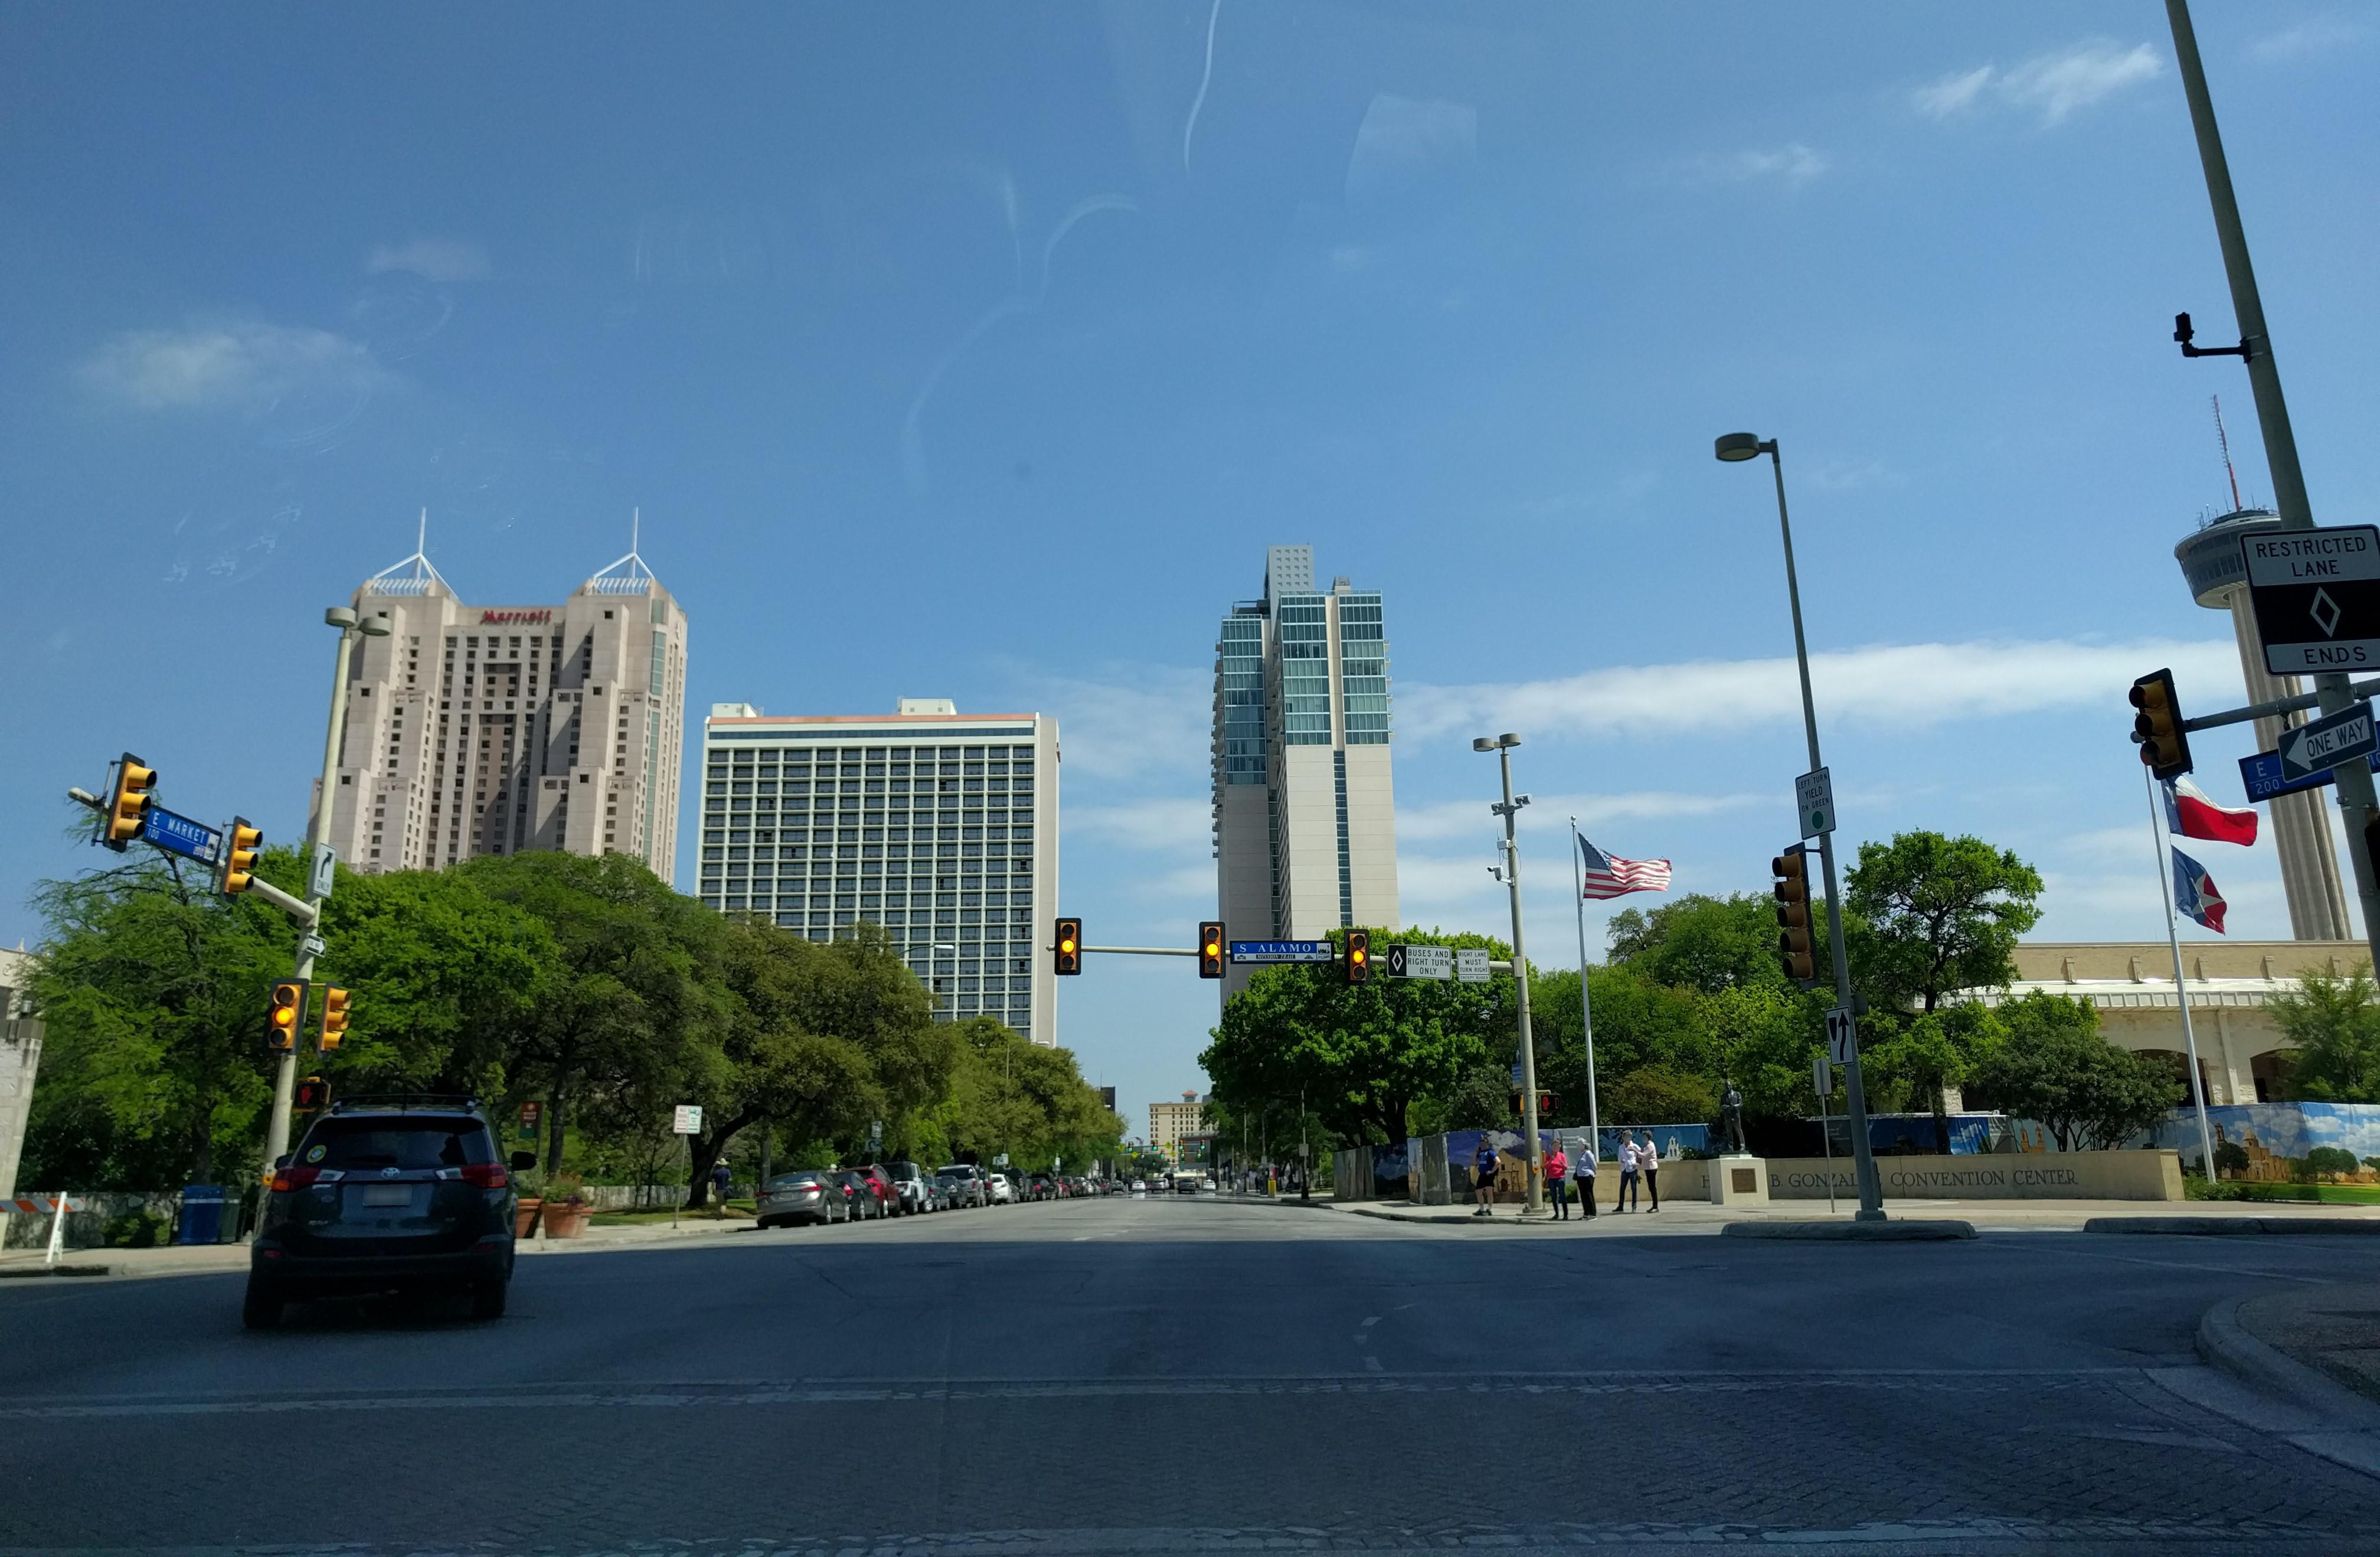vinyl banner: (2173, 1091, 2380, 1222)
